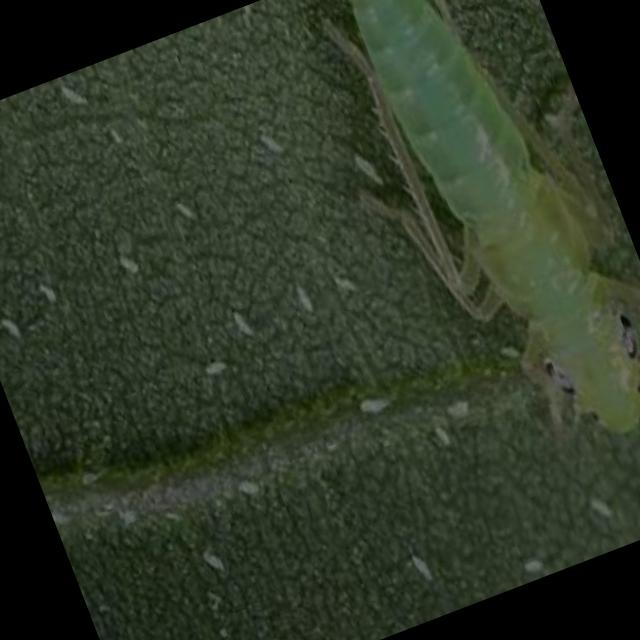green-leafhopper: (334, 0, 640, 469)
